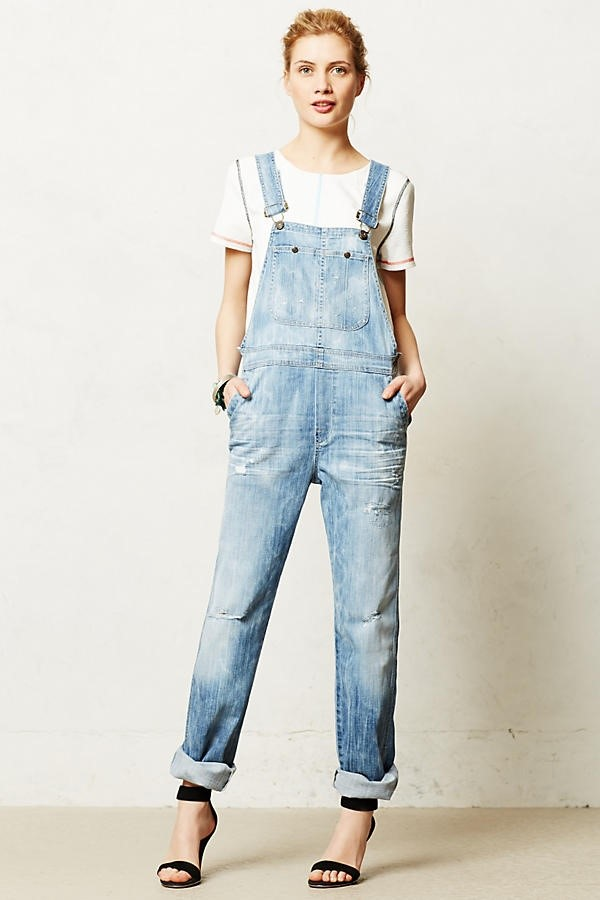face_no_mask: (282, 11, 366, 131)
